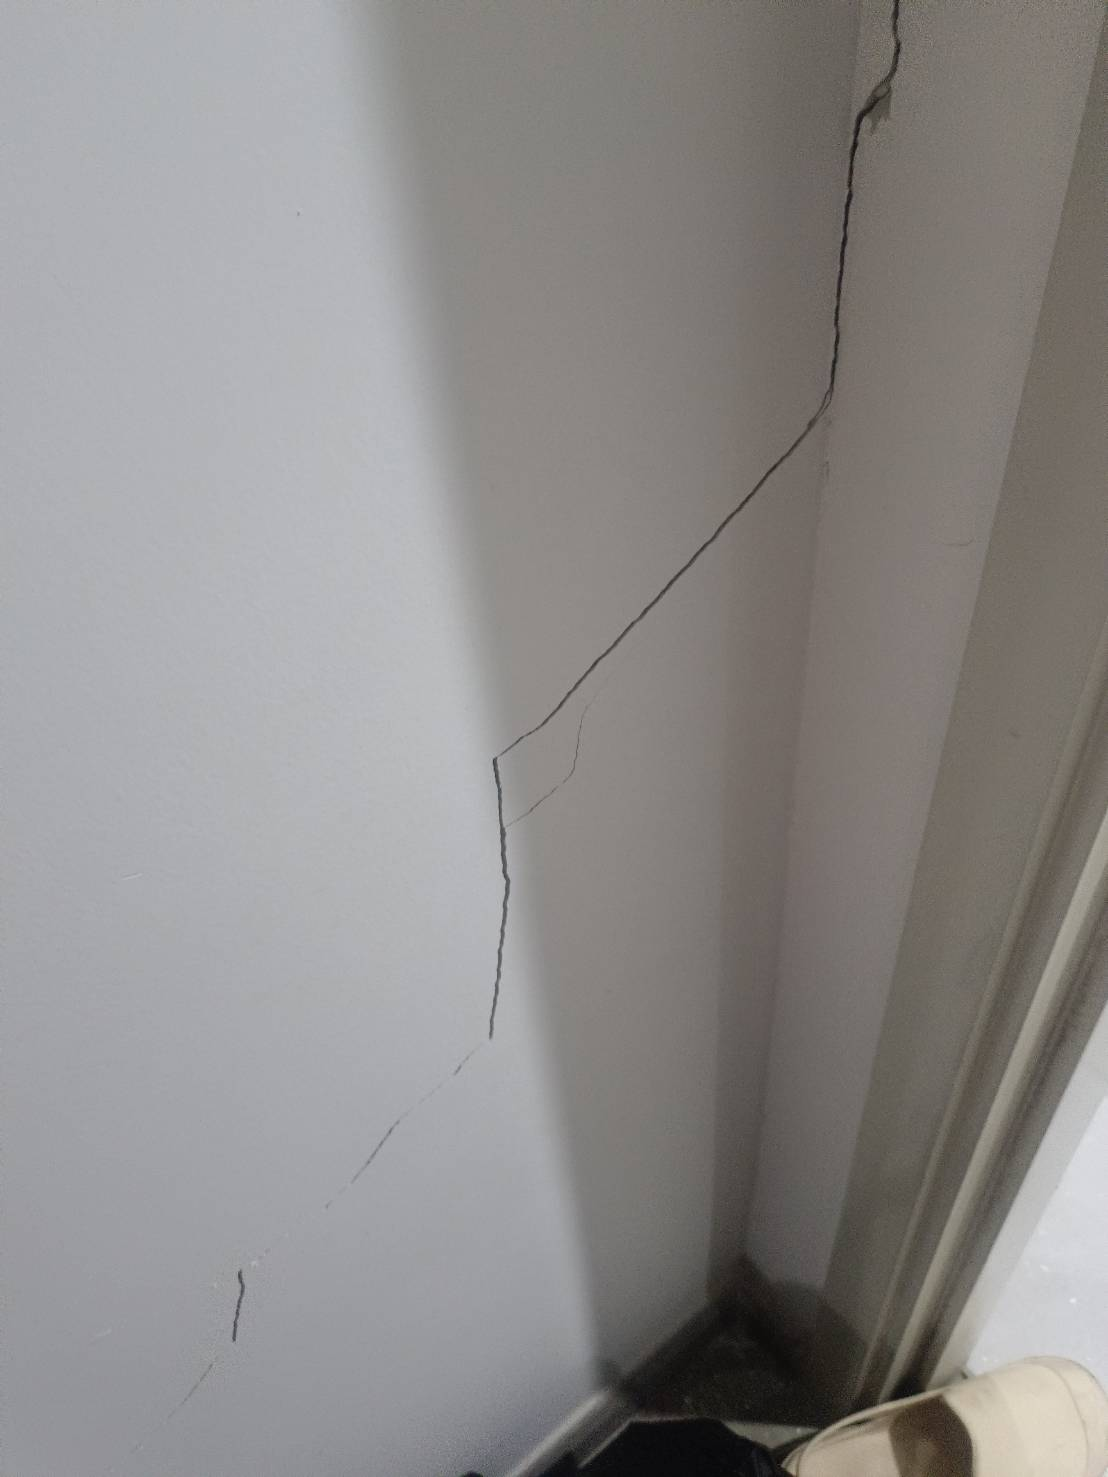Medium: (338, 229, 853, 1024)
